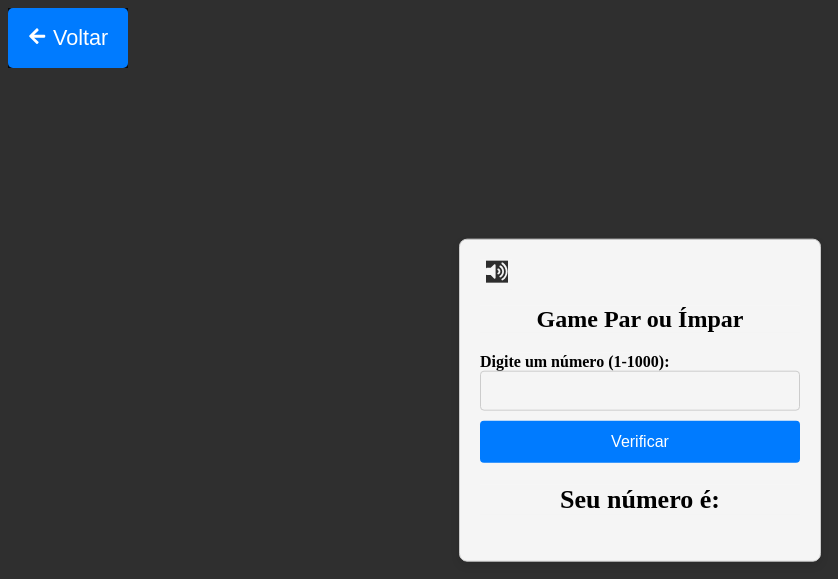
Scenario: EvenOrOdd Page › should show the message Par when entering an even number in the input
Type "20" into the number field labelled "Digite um número (1-1000):" at (640,390), box [480,370,800,410]
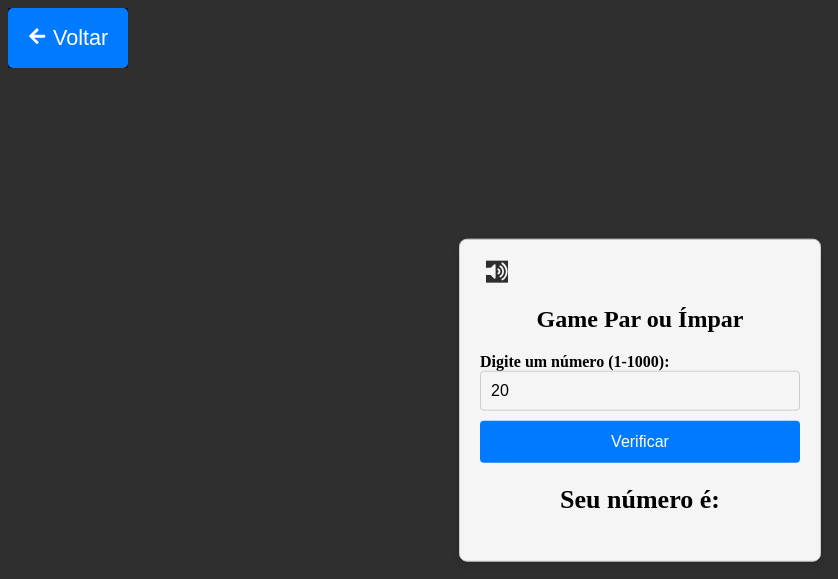
Click the button with test id "send-form" at (640,441), box [480,420,800,462]
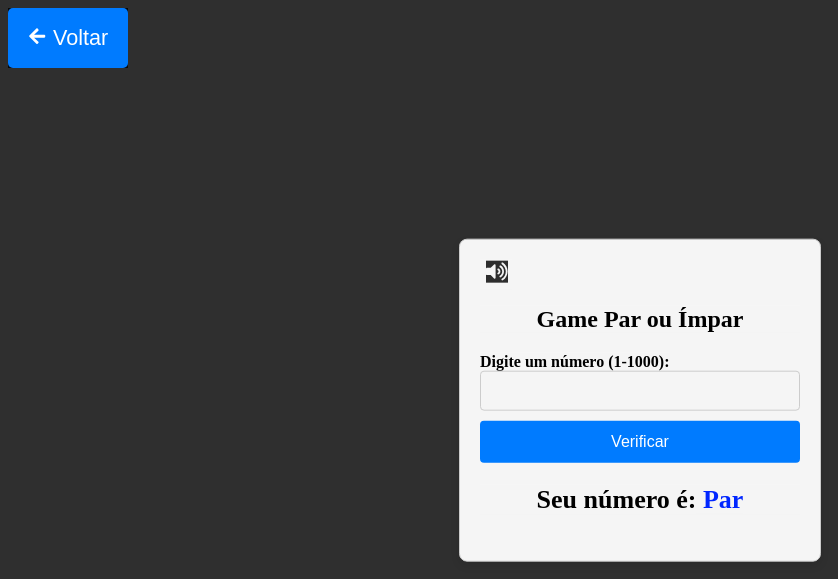
Check: the text with test id "result-text" reads "Par", box [703,484,743,513]
